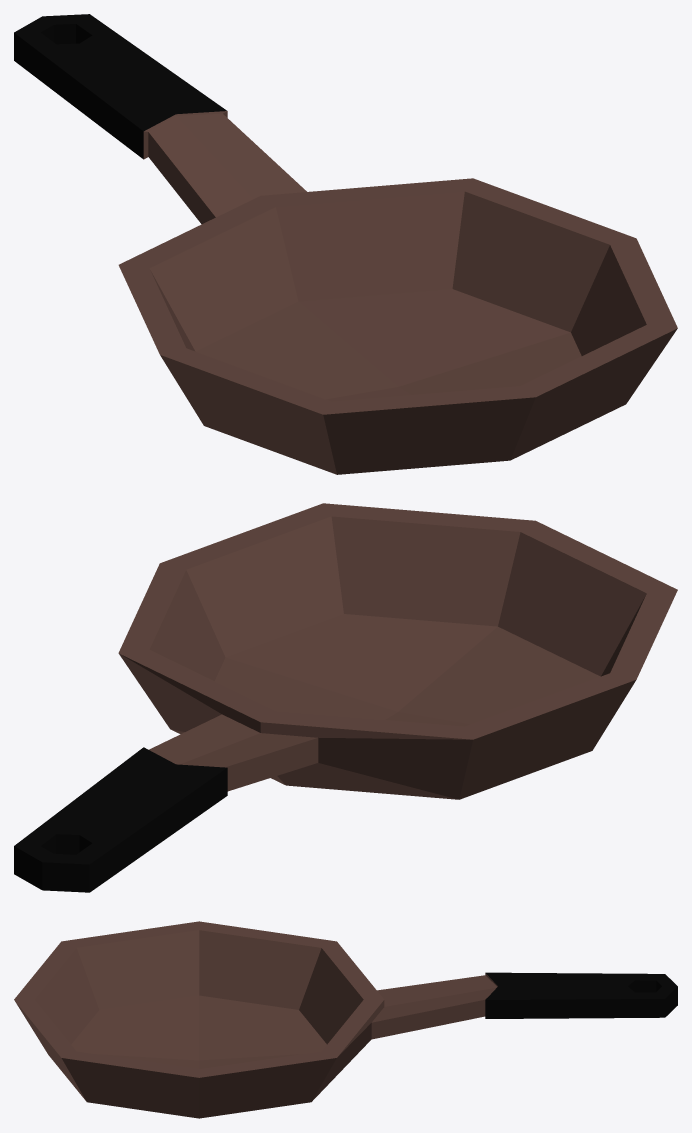
File: Pan.fbx
The picture shows the model from 3 angles, top to bottom: view 1: azimuth 30°, elevation 25°; view 2: azimuth 150°, elevation 25°; view 3: azimuth 270°, elevation 25°; orthographic projection. The views are drawn at different scales.
Visible parts, largest first — view 1: Pan; view 2: Pan; view 3: Pan.
Part boxes in pixels (x1,y1,x2,y2): Pan: (14,14,677,474); Pan: (14,503,677,892); Pan: (14,921,677,1118).
Size of the model in its own units: 56.79 by 12.81 by 102.
